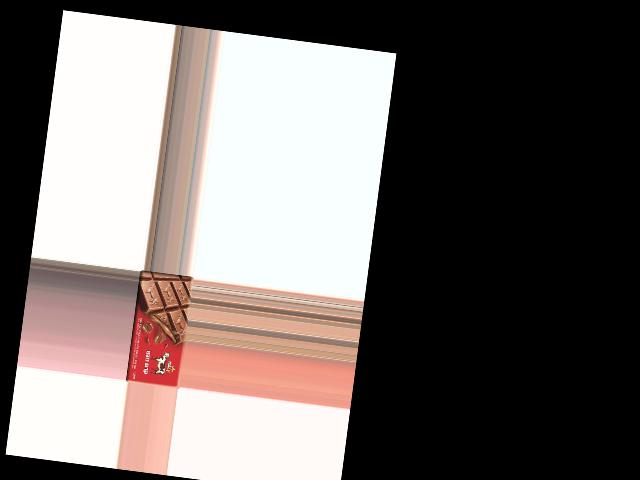chocolate: (126, 271, 193, 389)
